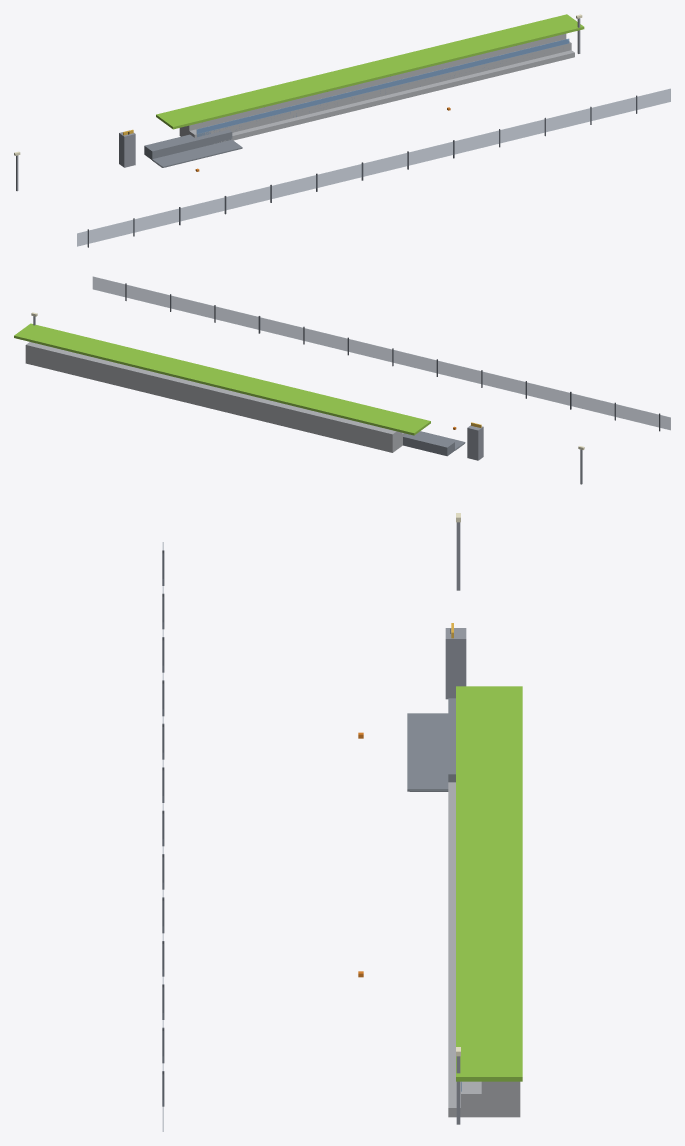
File: venue_2.obj
3 views of the same model, one above another, from view 1: azimuth 30°, elevation 25°; view 2: azimuth 150°, elevation 25°; view 3: azimuth 270°, elevation 25° (orthographic). The views are drawn at different scales.
Size of the model in its own units: 520 by 32 by 140.
